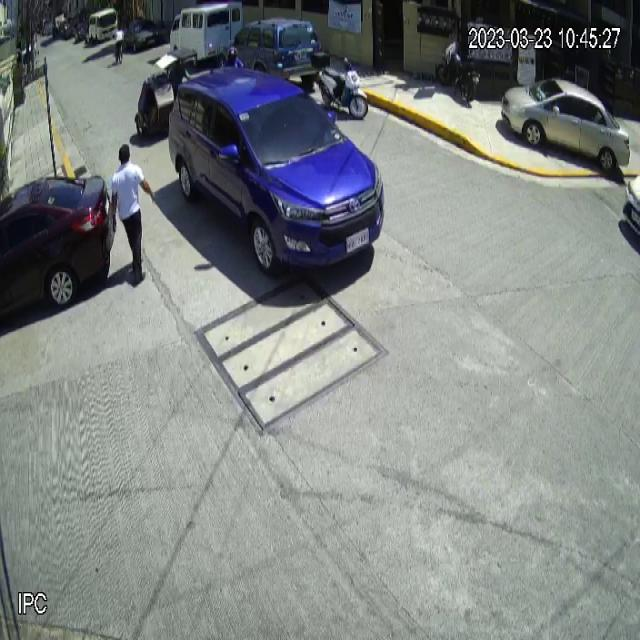Car: (168, 64, 385, 277), (500, 76, 631, 173)
